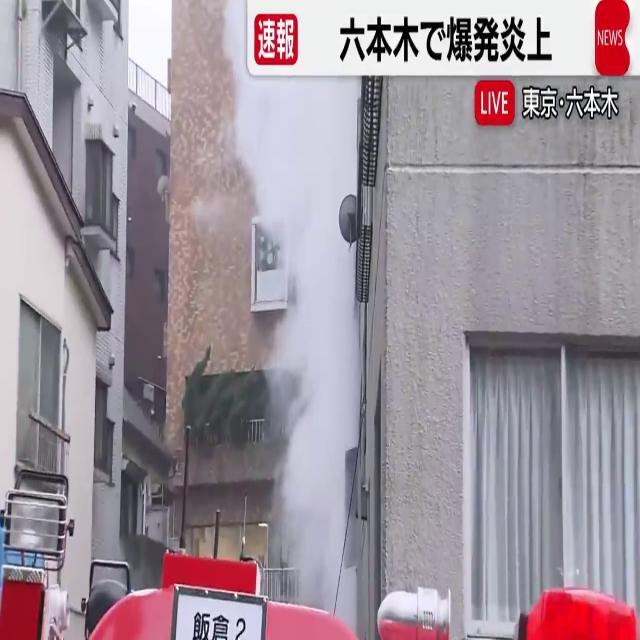Smoke: (228, 71, 362, 589)
